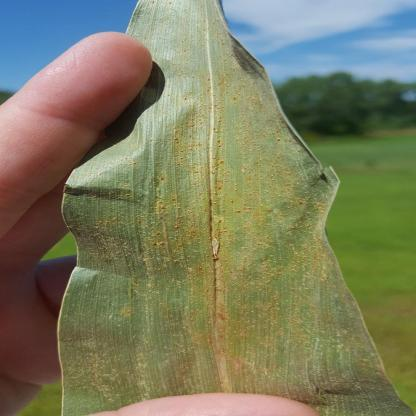Corn rust leaf: (62, 3, 395, 394)
